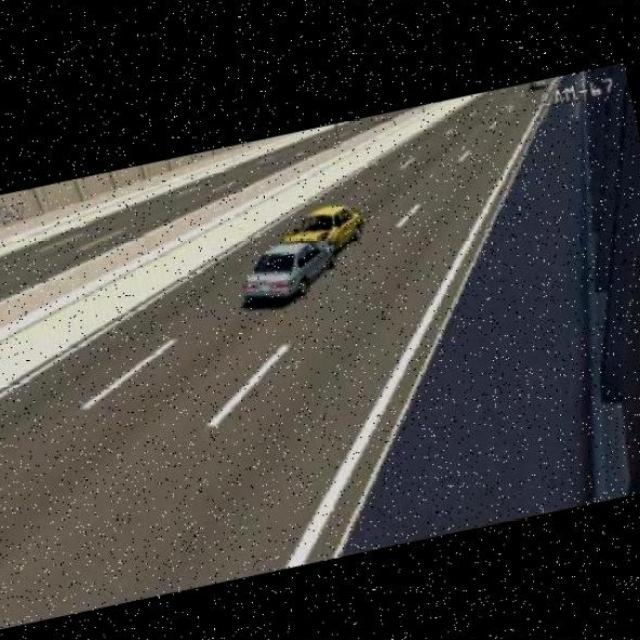accident: (213, 196, 379, 320)
